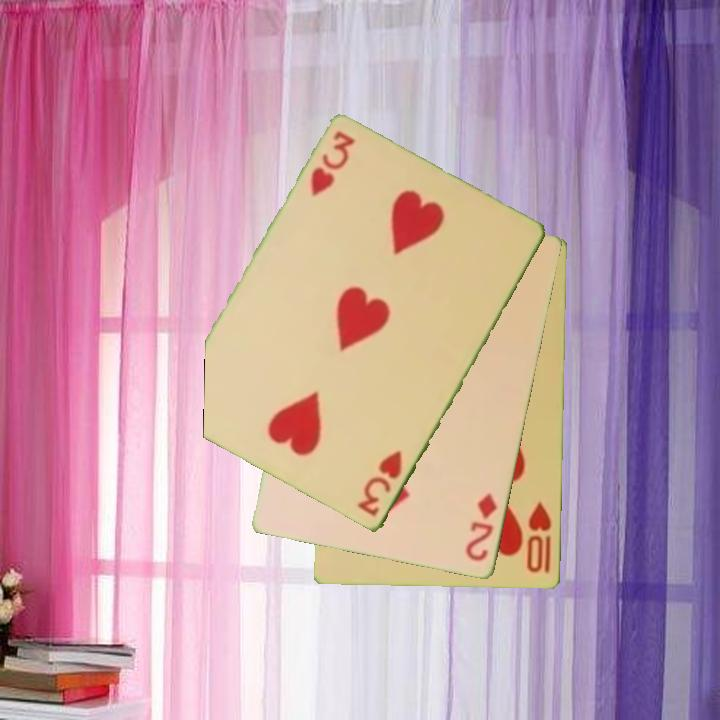10h: (523, 498, 554, 577)
2d: (462, 489, 500, 565)
3h: (307, 127, 358, 201), (354, 447, 405, 520)
